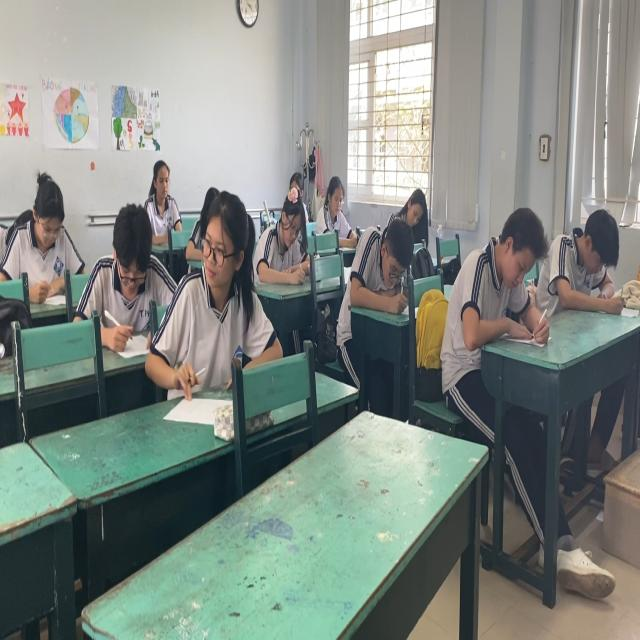cheating: (173, 190, 264, 400)
not_cheating: (85, 203, 176, 344), (452, 198, 550, 323), (550, 203, 631, 321), (11, 158, 77, 279), (353, 213, 411, 320), (254, 192, 312, 292), (312, 165, 355, 241), (141, 155, 180, 230), (400, 182, 429, 244)
